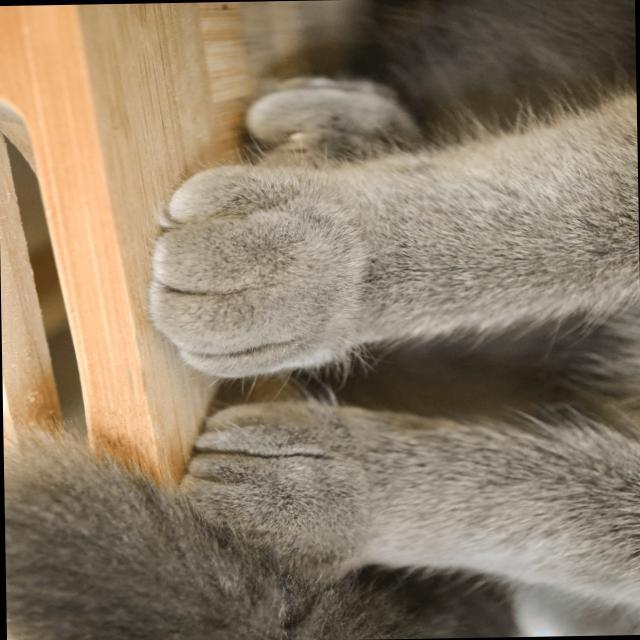Healthy skin: (410, 453, 626, 573), (365, 160, 587, 266), (194, 189, 334, 331), (20, 536, 229, 620), (221, 441, 372, 542)
